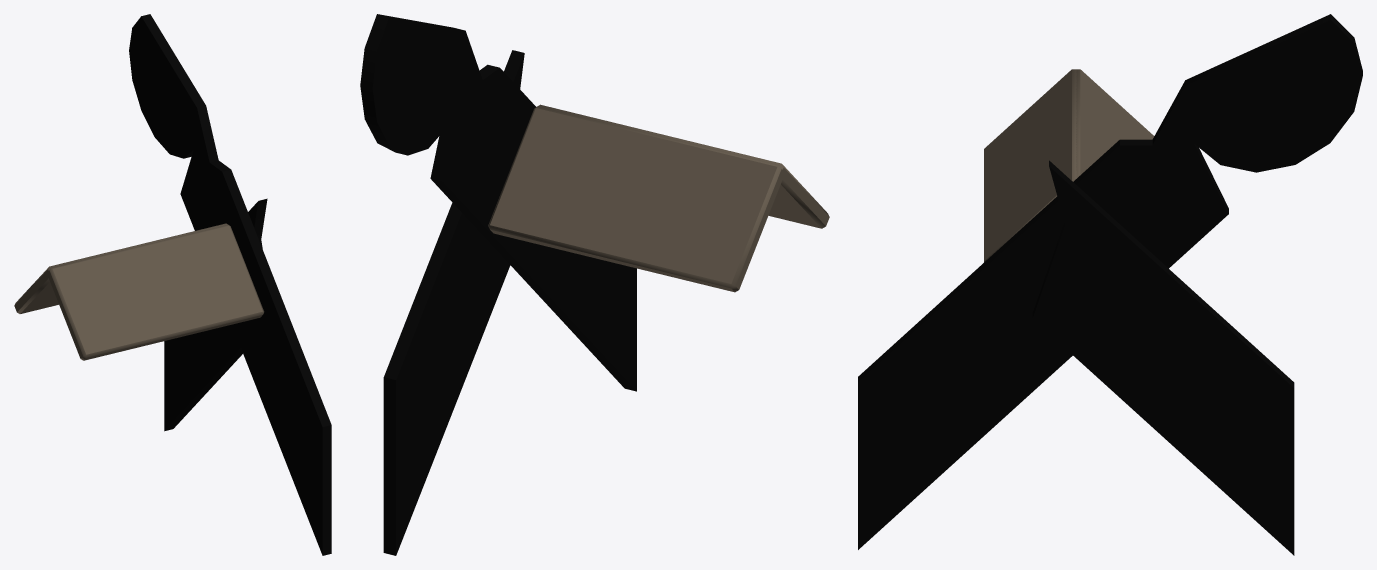
File: dach_zier_r_kaputt.glb
The picture shows the model from 3 angles, left to right: view 1: azimuth 30°, elevation 25°; view 2: azimuth 150°, elevation 25°; view 3: azimuth 270°, elevation 25°; orthographic projection. The views are drawn at different scales.
Visible parts, largest first — view 1: dach_zier_r_kaputt; view 2: dach_zier_r_kaputt; view 3: dach_zier_r_kaputt.
Boxes of the visible parts, x1,y1,x2,y2 form: dach_zier_r_kaputt: [14, 14, 331, 555]; dach_zier_r_kaputt: [360, 14, 829, 555]; dach_zier_r_kaputt: [858, 14, 1362, 555].
Size of the model in its own units: 0.575 by 1.07 by 0.9257.
